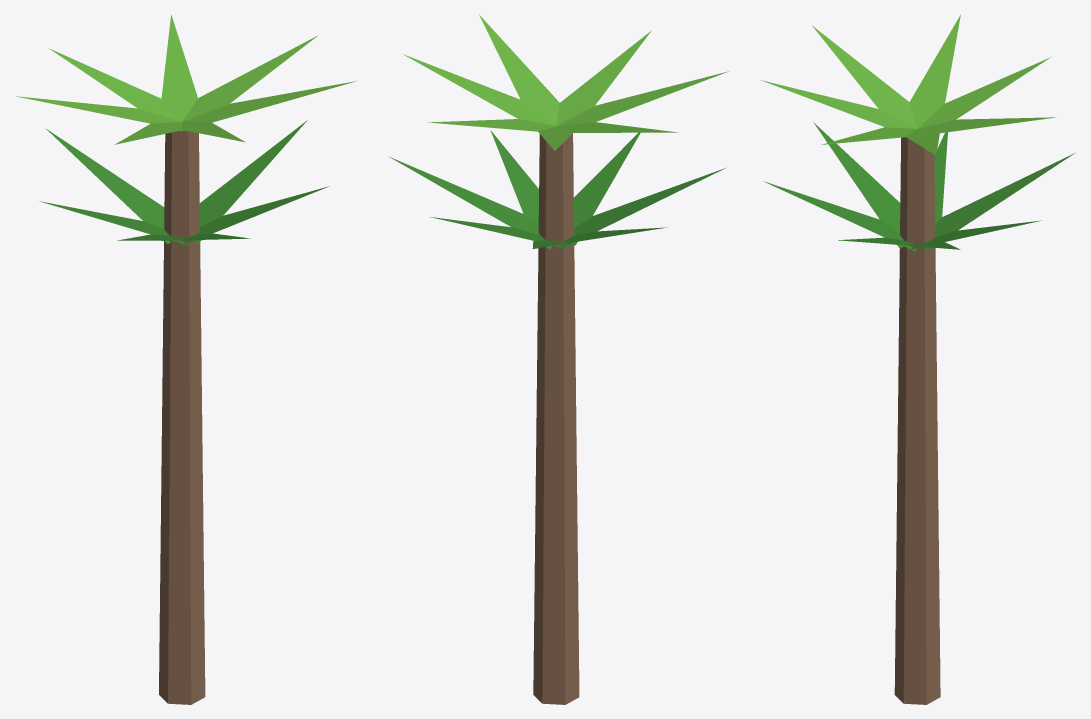
The model's file is cassava_3.obj.
3 renders of one model, left to right at view 1: azimuth 30°, elevation 25°; view 2: azimuth 150°, elevation 25°; view 3: azimuth 270°, elevation 25°, orthographic.
Visible parts, largest first — view 1: plant; view 2: plant; view 3: plant.
Part boxes in pixels (x1,y1,x2,y2): plant: (16, 14, 356, 704); plant: (389, 14, 729, 704); plant: (760, 14, 1074, 704).
Size of the model in its own units: 0.363 by 0.731 by 0.3435.
